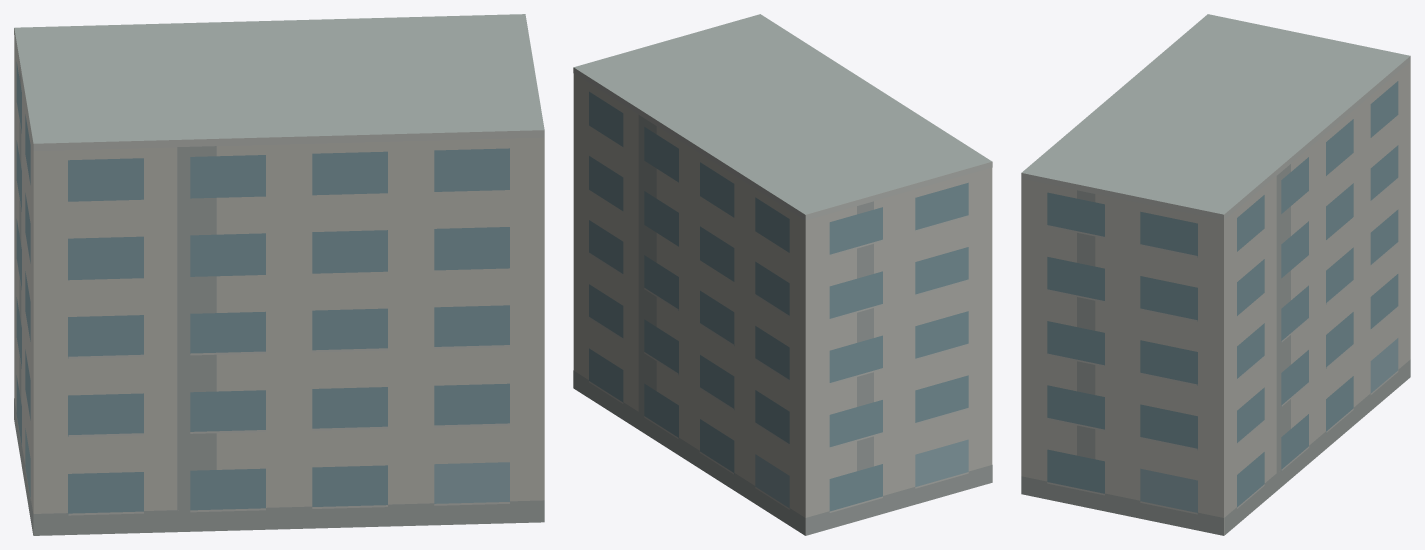
File: survey-upis-33008643.glb
The picture shows the model from 3 angles, left to right: view 1: azimuth 30°, elevation 25°; view 2: azimuth 150°, elevation 25°; view 3: azimuth 270°, elevation 25°; orthographic projection. The views are drawn at different scales.
Visible parts, largest first — view 1: survey-upis-33008643.tmp; view 2: survey-upis-33008643.tmp; view 3: survey-upis-33008643.tmp.
Part boxes in pixels (x1,y1,x2,y2): survey-upis-33008643.tmp: (14, 14, 544, 535); survey-upis-33008643.tmp: (573, 14, 992, 535); survey-upis-33008643.tmp: (1021, 14, 1410, 535).
Size of the model in its own units: 17.69 by 13.2 by 14.51.
